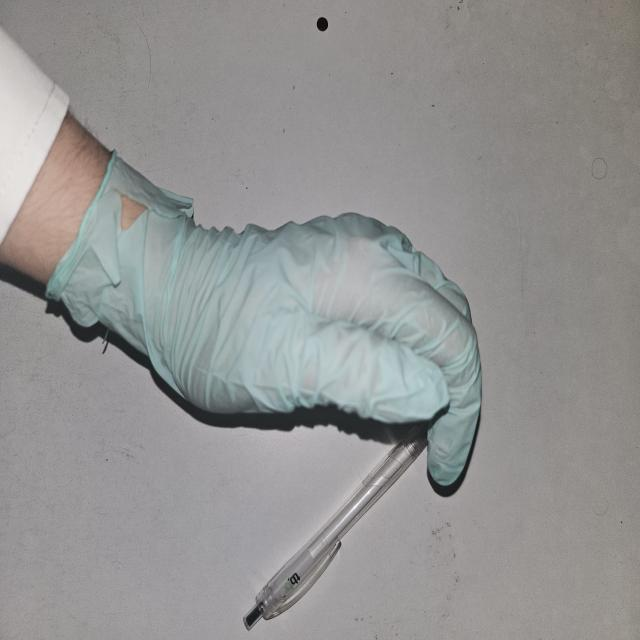gloves_damaged: (47, 145, 483, 488)
